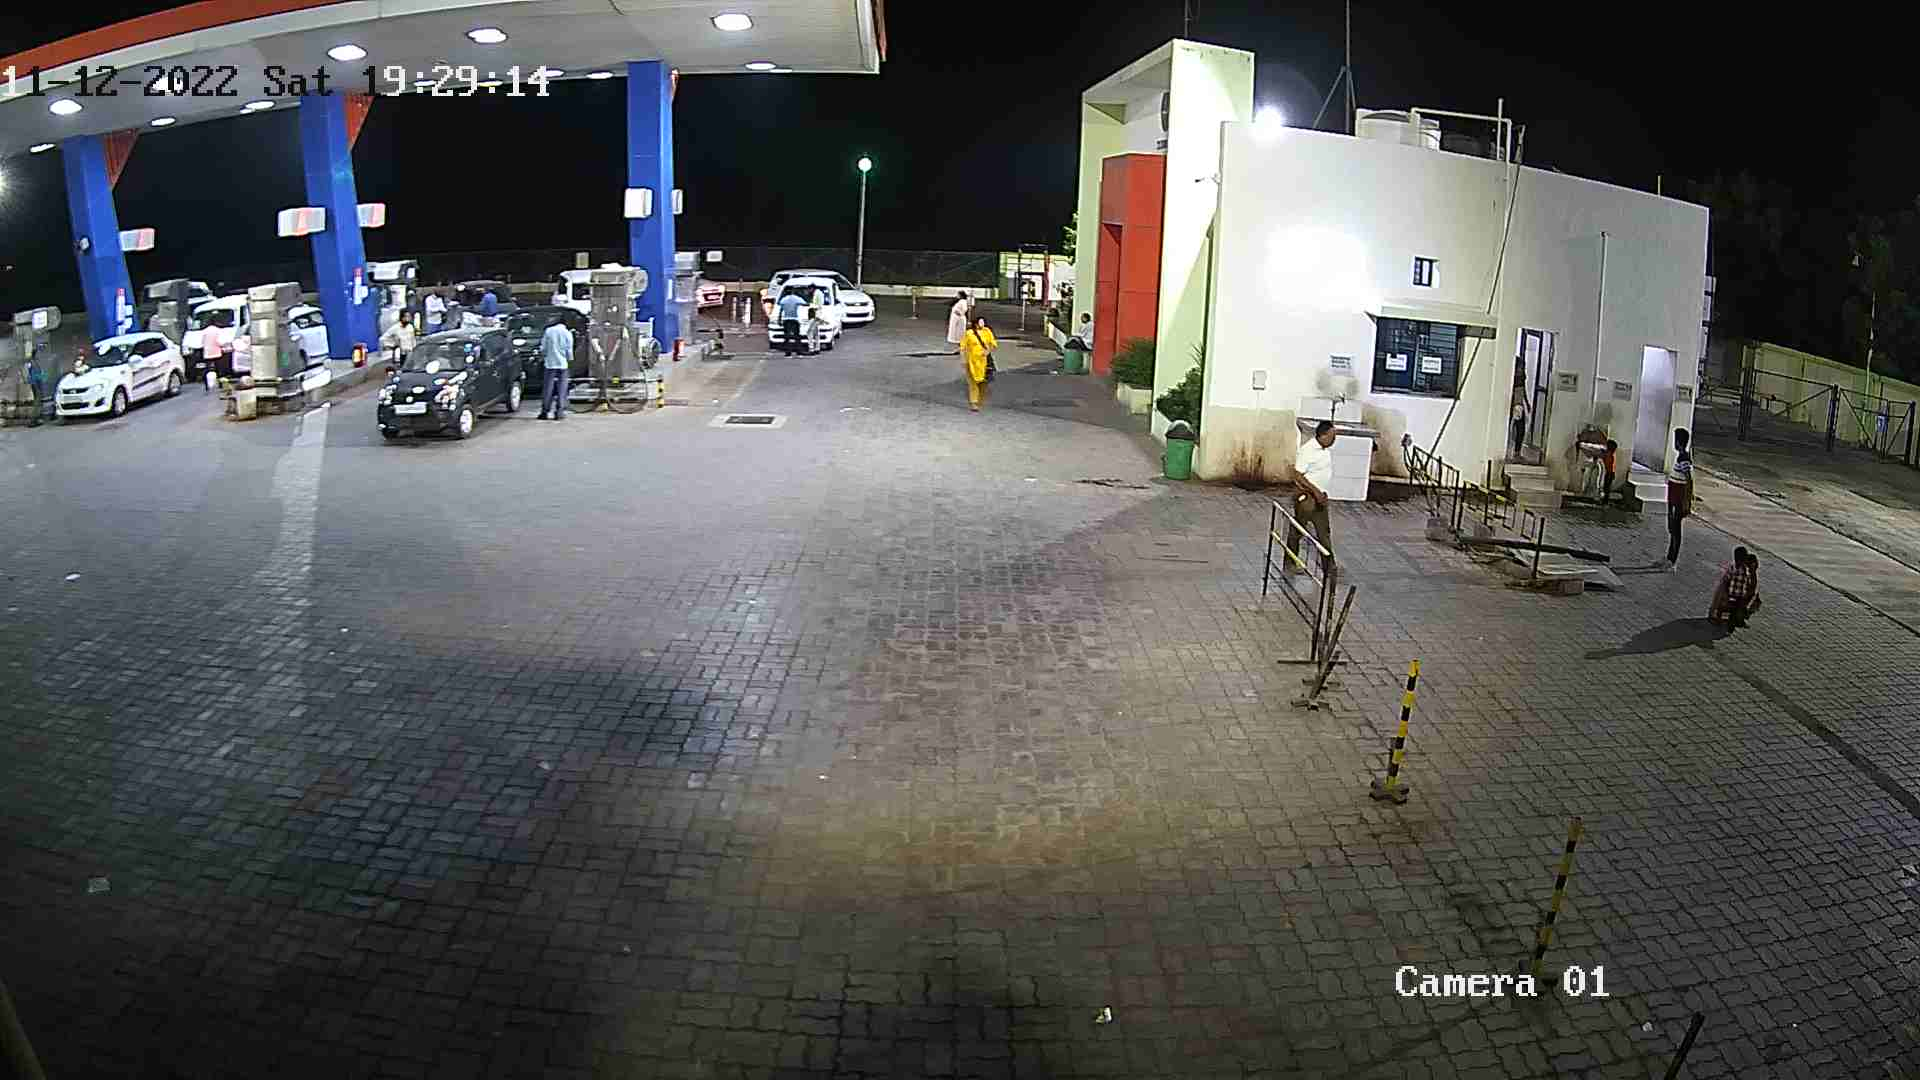Car: (367, 320, 529, 448), (49, 320, 190, 427), (485, 301, 595, 406), (171, 286, 258, 386), (754, 266, 881, 334), (761, 273, 851, 357), (430, 272, 520, 340), (274, 297, 336, 375), (541, 264, 603, 324), (178, 272, 222, 323), (688, 264, 729, 318)
